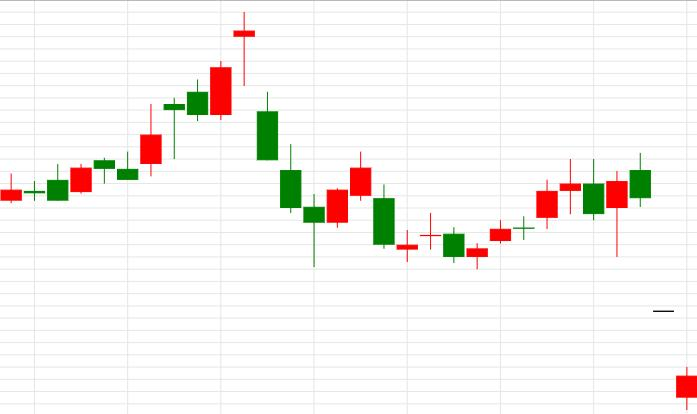evening_star_fall: (139, 9, 278, 177)
